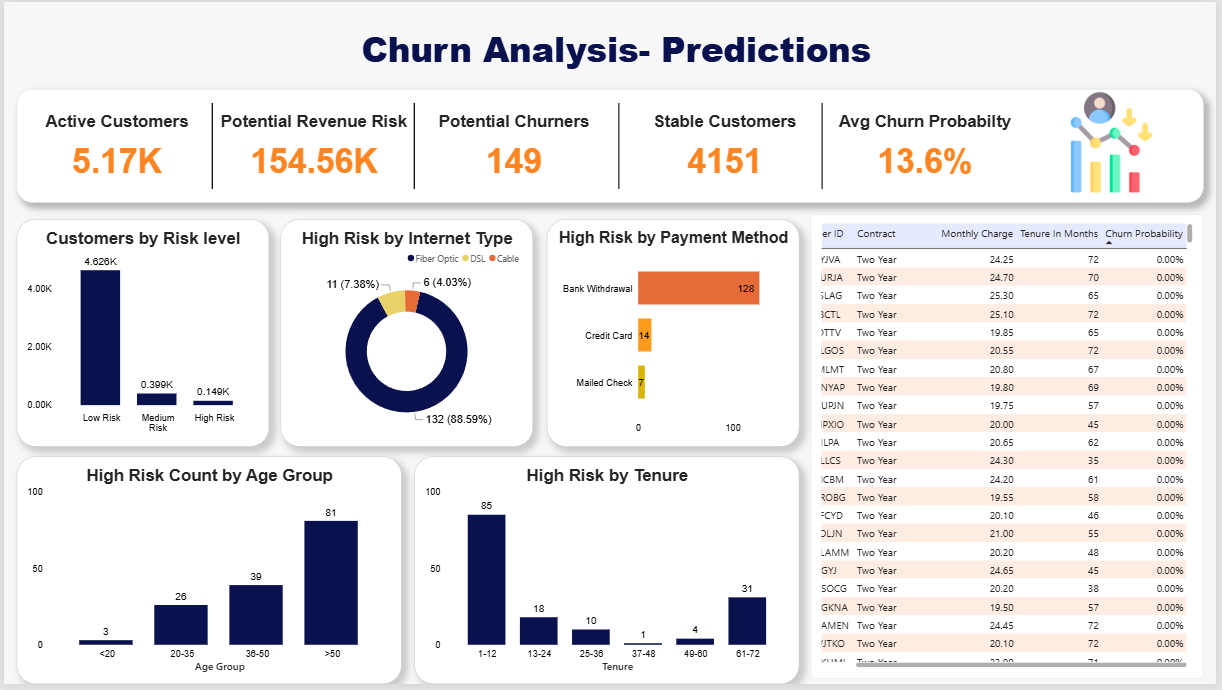

This screenshot's page, from the dashboard's own definition file:
{"tool":"powerbi","page":{"name":"Page 2","canvas":[1920,1080],"ordinal":1},"visuals":[{"type":"columnChart","title":"Customers by Risk level","fields":{"Y":["CountNonNull(db_churn churn_probability_df.customer_id)"],"Category":["db_churn churn_probability_df.risk_level"]},"box":[20,344,400,360],"z":0},{"type":"shape","box":[20,137.5,1880,180],"z":1000},{"type":"card","title":"Active Customers","fields":{"Values":["Count(db_churn churn_probability_df.customer_id)"]},"box":[42,160,274,146],"z":2000},{"type":"shape","box":[324,160,12,136],"z":3000},{"type":"shape","box":[644.7,160,12,136],"z":4000},{"type":"shape","box":[965.3,160,16,136],"z":5000},{"type":"card","title":"Potential Revenue Risk","fields":{"Values":["Measure.Potential Revenue at Risk"]},"box":[322,160,338,146],"z":6000},{"type":"card","title":"Potential Churners","fields":{"Values":["Measure.High Risk Count"]},"box":[672,160,272,146],"z":7000},{"type":"image","box":[1659.6,137.4,188.7,168.5],"z":8000},{"type":"card","title":"Stable Customers","fields":{"Values":["Measure.Retension"]},"box":[1006,160,272,146],"z":9000},{"type":"donutChart","title":"High Risk  by Internet Type","fields":{"Y":["Measure.High Risk Count"],"Category":["db_churn churn_probability_df.internet_type"]},"box":[438,344,400,360],"z":10000},{"type":"card","title":"Avg Churn Probabilty","fields":{"Values":["Measure.Avg Churn Prob"]},"box":[1304,160,310,146],"z":11000},{"type":"shape","box":[1290,160,12,136],"z":12000},{"type":"columnChart","fields":{"Category":["db_churn telecom_customer_churn_cleaned (2).Age Group"],"Y":["Measure.High Risk Count"]},"box":[20,720,610,360],"z":13000},{"type":"columnChart","title":"High Risk by Tenure","fields":{"Y":["Measure.High Risk Count"],"Category":["db_churn telecom_customer_churn_cleaned.Tenure"]},"box":[650,720,610,360],"z":14000},{"type":"tableEx","fields":{"Values":["db_churn churn_probability_df.customer_id","db_churn churn_probability_df.contract","db_churn churn_probability_df.monthly_charge","db_churn churn_probability_df.tenure_in_months","db_churn churn_probability_df.churn_probability"]},"box":[1278,336,622,736],"z":14001},{"type":"clusteredBarChart","title":"High Risk  by Payment Method","fields":{"Category":["db_churn churn_probability_df.payment_method"],"Y":["Measure.High Risk Count"]},"box":[860,344,400,360],"z":14002},{"type":"textbox","box":[20,36,1900,88],"z":14003}]}

Visuals, with their boxes in screenshot pixels (x1, y1, x2, y2), scaled from the page's 1920x1080 canvas onto the 1222x690 screenshot:
"Customers by Risk level" columnChart: <box>13,220,267,450</box>
shape: <box>13,88,1209,203</box>
"Active Customers" card: <box>27,102,201,195</box>
shape: <box>206,102,214,189</box>
shape: <box>410,102,418,189</box>
shape: <box>614,102,625,189</box>
"Potential Revenue Risk" card: <box>205,102,420,195</box>
"Potential Churners" card: <box>428,102,601,195</box>
image: <box>1056,88,1176,195</box>
"Stable Customers" card: <box>640,102,813,195</box>
"High Risk  by Internet Type" donutChart: <box>279,220,533,450</box>
"Avg Churn Probabilty" card: <box>830,102,1027,195</box>
shape: <box>821,102,829,189</box>
columnChart - db_churn telecom_customer_churn_cleaned (2).Age Group x Measure.High Risk Count: <box>13,460,401,689</box>
"High Risk by Tenure" columnChart: <box>414,460,802,689</box>
tableEx - db_churn churn_probability_df.customer_id x db_churn churn_probability_df.contract: <box>813,215,1209,685</box>
"High Risk  by Payment Method" clusteredBarChart: <box>547,220,802,450</box>
textbox: <box>13,23,1221,79</box>
